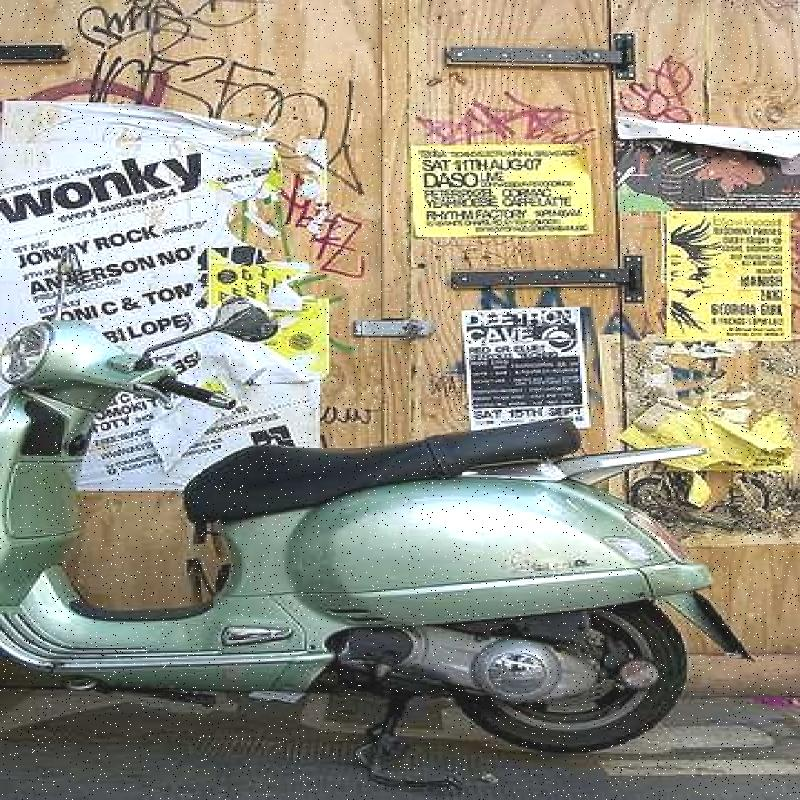bike: (5, 248, 741, 744)
